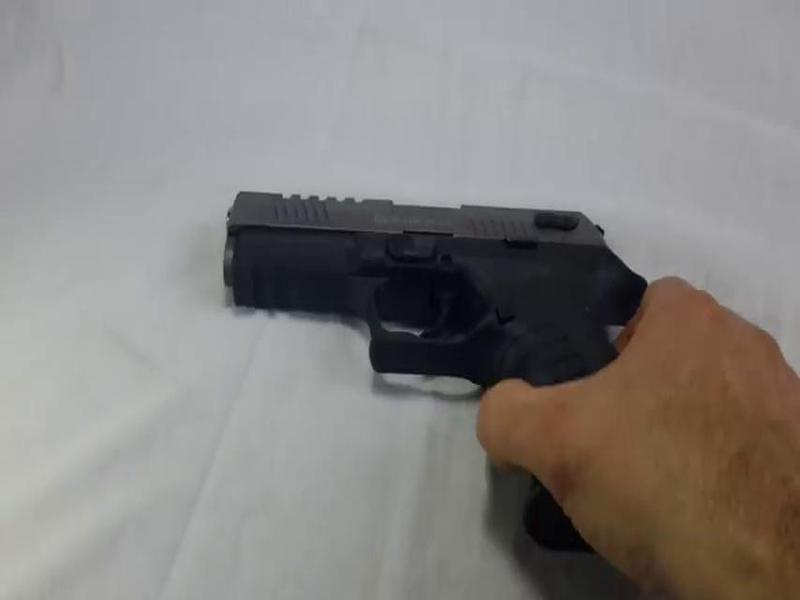Pistola: (179, 154, 685, 554)
